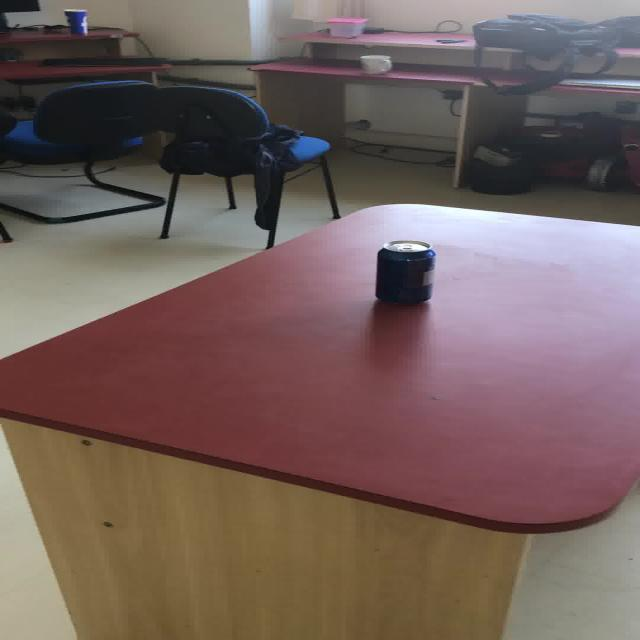tonic: (373, 239, 435, 304), (62, 8, 88, 35)
